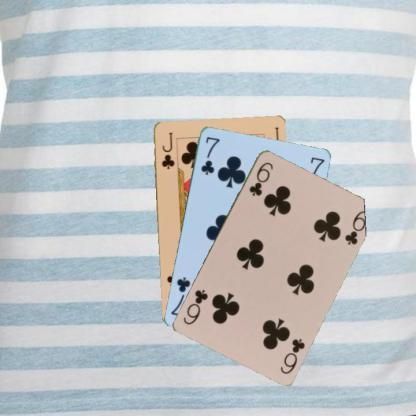6c: (277, 335, 306, 375), (246, 159, 275, 197)
7c: (198, 134, 221, 176)
Jc: (159, 130, 176, 170)
